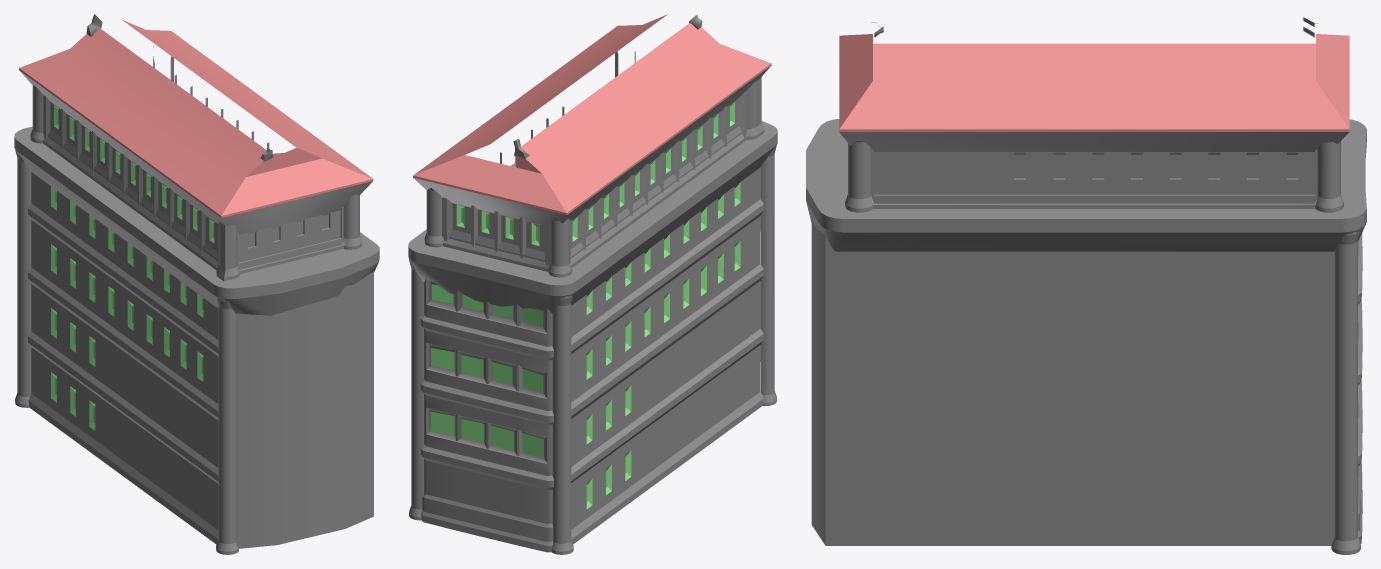
Rendered from COL_SM_ENV_KNVLLG03_AreaA_Building_B.gltf.
3 renders of one model, left to right at view 1: azimuth 30°, elevation 25°; view 2: azimuth 150°, elevation 25°; view 3: azimuth 270°, elevation 25°, orthographic. The views are drawn at different scales.
Visible parts, largest first — view 1: COL_SM_ENV_KNVLLG03_AreaA_Building_B; view 2: COL_SM_ENV_KNVLLG03_AreaA_Building_B; view 3: COL_SM_ENV_KNVLLG03_AreaA_Building_B.
Part boxes in pixels (x1,y1,x2,y2): COL_SM_ENV_KNVLLG03_AreaA_Building_B: (14,14,379,554); COL_SM_ENV_KNVLLG03_AreaA_Building_B: (408,14,777,554); COL_SM_ENV_KNVLLG03_AreaA_Building_B: (806,17,1366,554).
Size of the model in its own units: 16 by 35.87 by 37.69.
